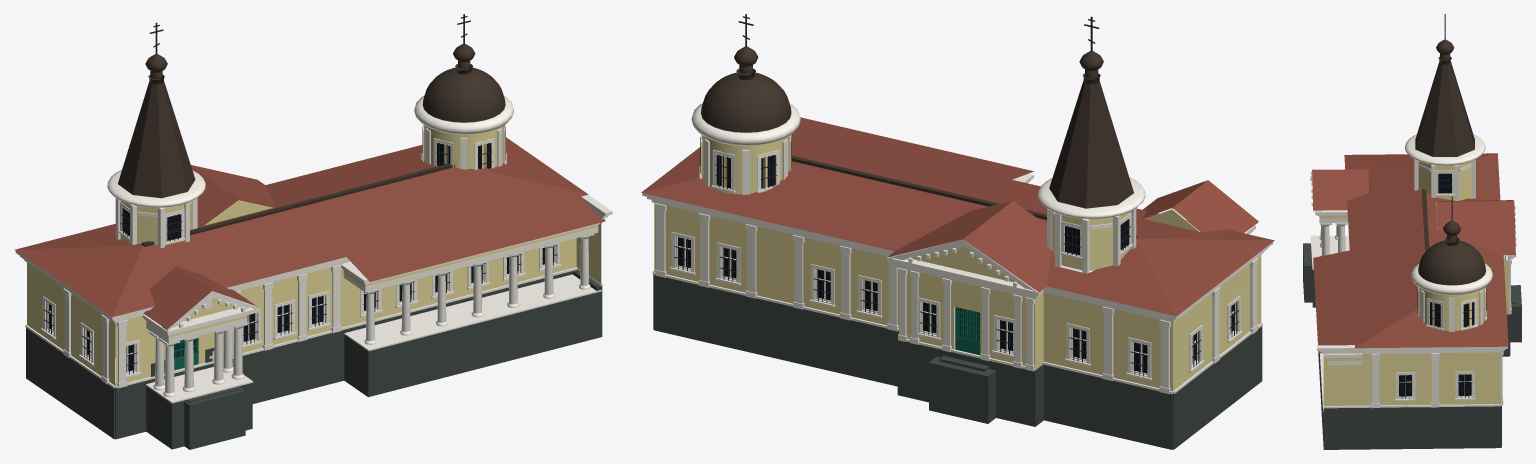
File: vseh_svyatyh.glb
3 renders of one model, left to right at view 1: azimuth 30°, elevation 25°; view 2: azimuth 150°, elevation 25°; view 3: azimuth 270°, elevation 25°, orthographic. The views are drawn at different scales.
Parts seen in each view (by area): view 1: vseh_svyatyh_wall2, vseh_svyatyh_stone, vseh_svyatyh_trim, vseh_svyatyh_wall, vseh_svyatyh_roof, vseh_svyatyh_trim_s, vseh_svyatyh_glass, vseh_svyatyh_metal; view 2: vseh_svyatyh_wall2, vseh_svyatyh_stone, vseh_svyatyh_trim, vseh_svyatyh_wall, vseh_svyatyh_roof, vseh_svyatyh_glass, vseh_svyatyh_metal, vseh_svyatyh_wood; view 3: vseh_svyatyh_wall2, vseh_svyatyh_wall, vseh_svyatyh_trim, vseh_svyatyh_stone, vseh_svyatyh_roof, vseh_svyatyh_glass, vseh_svyatyh_metal, vseh_svyatyh_trim_s.
Part boxes in pixels (bbox=[...]): vseh_svyatyh_wall2: bbox=[14, 137, 605, 329]; vseh_svyatyh_stone: bbox=[26, 270, 602, 449]; vseh_svyatyh_trim: bbox=[15, 96, 612, 403]; vseh_svyatyh_wall: bbox=[27, 124, 601, 385]; vseh_svyatyh_roof: bbox=[118, 44, 505, 246]; vseh_svyatyh_trim_s: bbox=[155, 238, 588, 393]; vseh_svyatyh_glass: bbox=[49, 143, 553, 371]; vseh_svyatyh_metal: bbox=[44, 14, 557, 374]; vseh_svyatyh_wall2: bbox=[641, 117, 1274, 316]; vseh_svyatyh_stone: bbox=[653, 274, 1262, 449]; vseh_svyatyh_trim: bbox=[642, 103, 1273, 394]; vseh_svyatyh_wall: bbox=[654, 135, 1261, 391]; vseh_svyatyh_roof: bbox=[701, 46, 1137, 238]; vseh_svyatyh_glass: bbox=[678, 155, 1233, 373]; vseh_svyatyh_metal: bbox=[674, 14, 1239, 376]; vseh_svyatyh_wood: bbox=[955, 307, 980, 355]; vseh_svyatyh_wall2: bbox=[1311, 153, 1515, 353]; vseh_svyatyh_wall: bbox=[1319, 161, 1509, 405]; vseh_svyatyh_trim: bbox=[1310, 134, 1516, 411]; vseh_svyatyh_stone: bbox=[1303, 243, 1521, 449]; vseh_svyatyh_roof: bbox=[1415, 39, 1485, 285]; vseh_svyatyh_glass: bbox=[1399, 173, 1474, 396]; vseh_svyatyh_metal: bbox=[1398, 14, 1486, 398]; vseh_svyatyh_trim_s: bbox=[1320, 225, 1345, 255].
Bounding box in the file's own units: 30.97 × 21.26 × 14.69.
